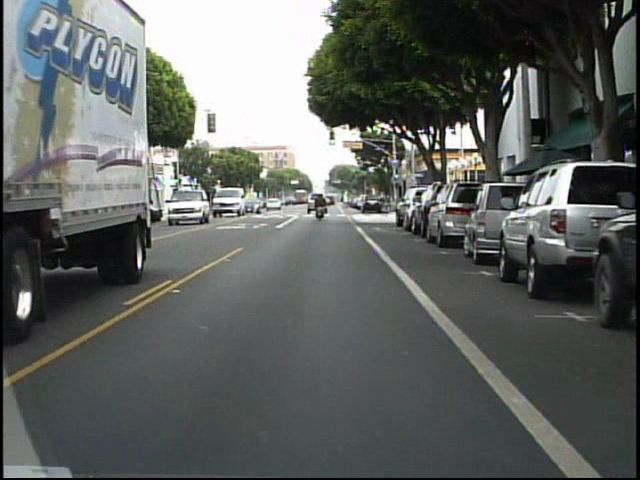person: (313, 192, 329, 221)
